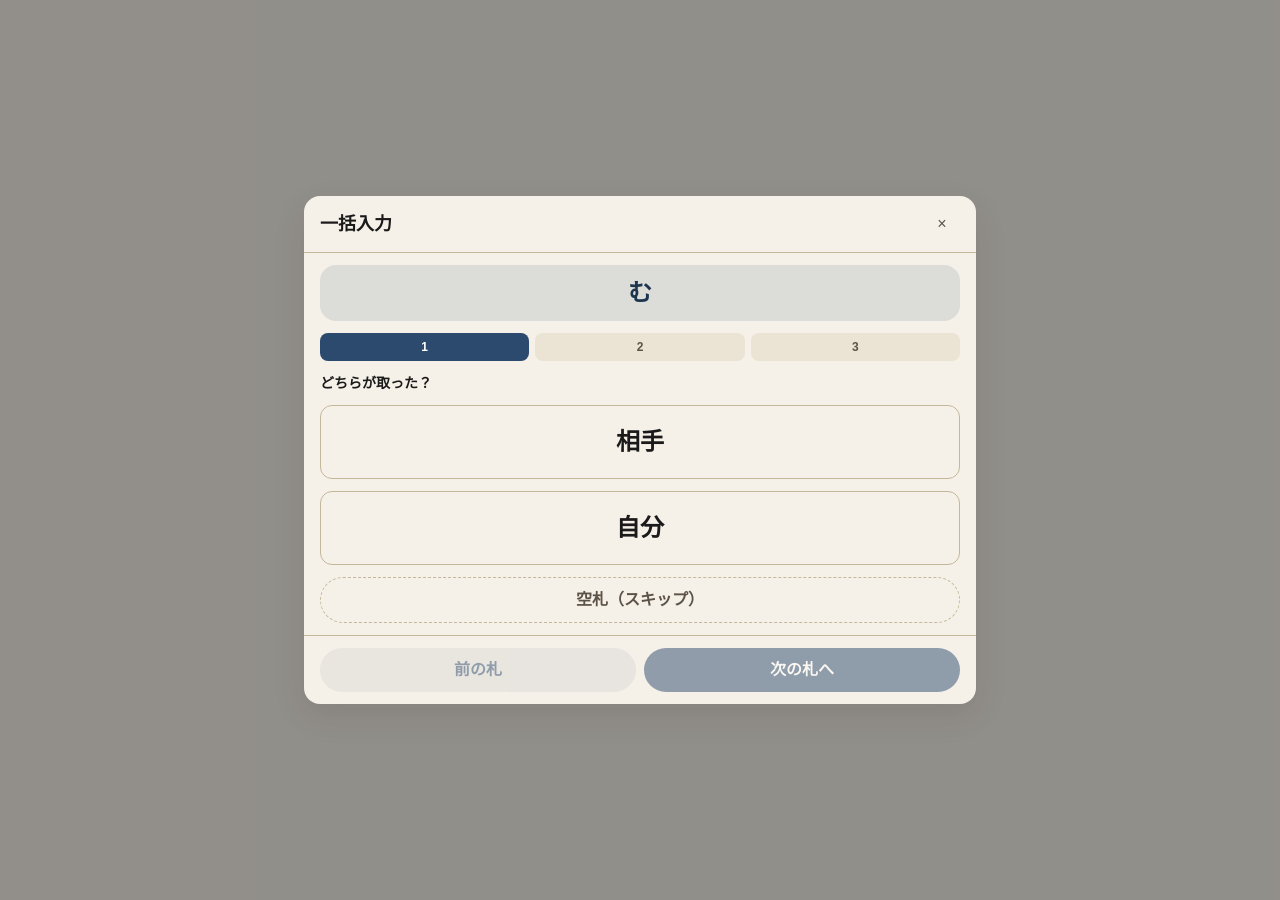
BulkEntryDialog › ステップ3完了後に次の札へ進む
Check: the text "む" is shown, box [628,277,652,309]
Click the button "自分": click(640, 528) [320,491,960,565]
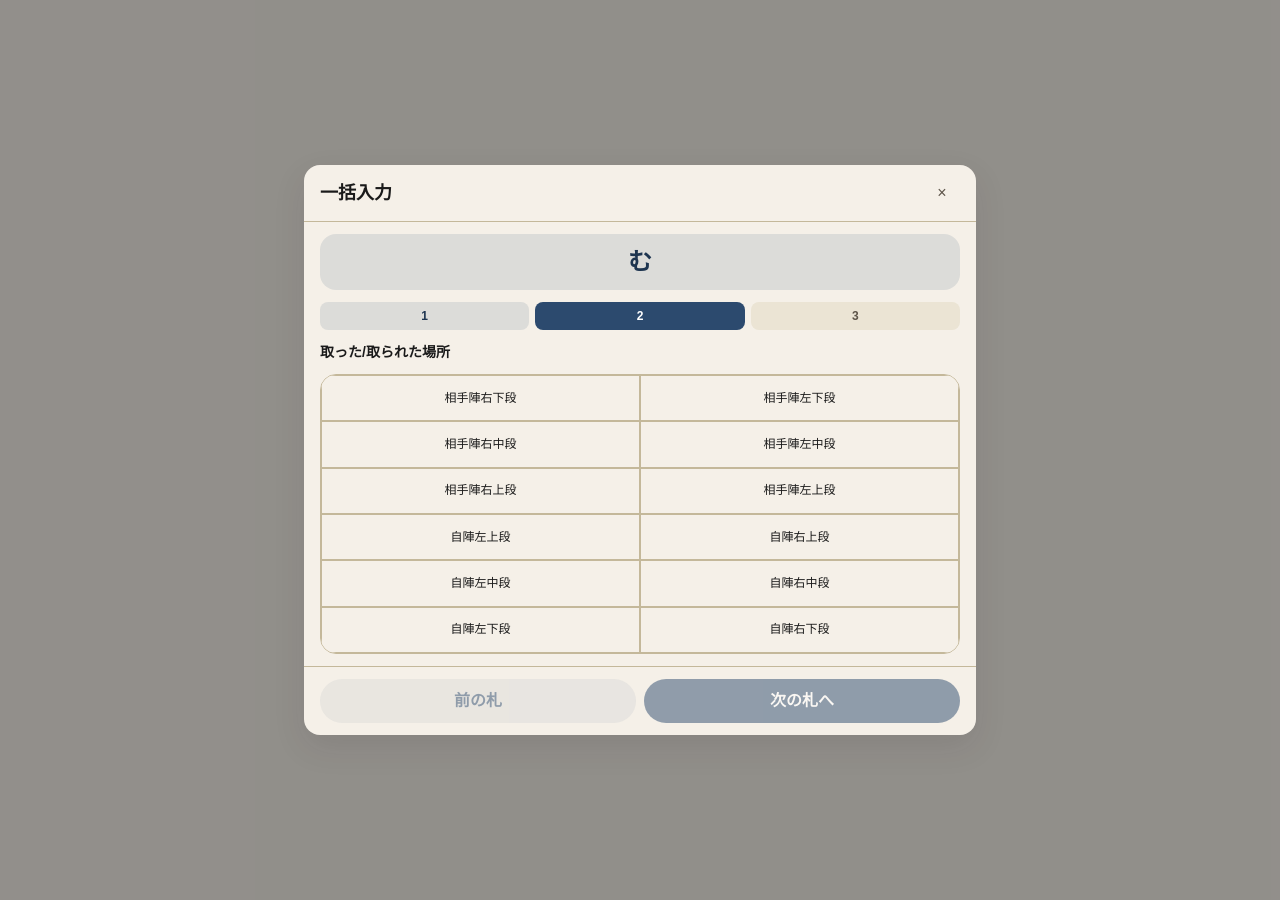
Click the button "相手陣右下段": click(480, 398) [321,375,640,421]
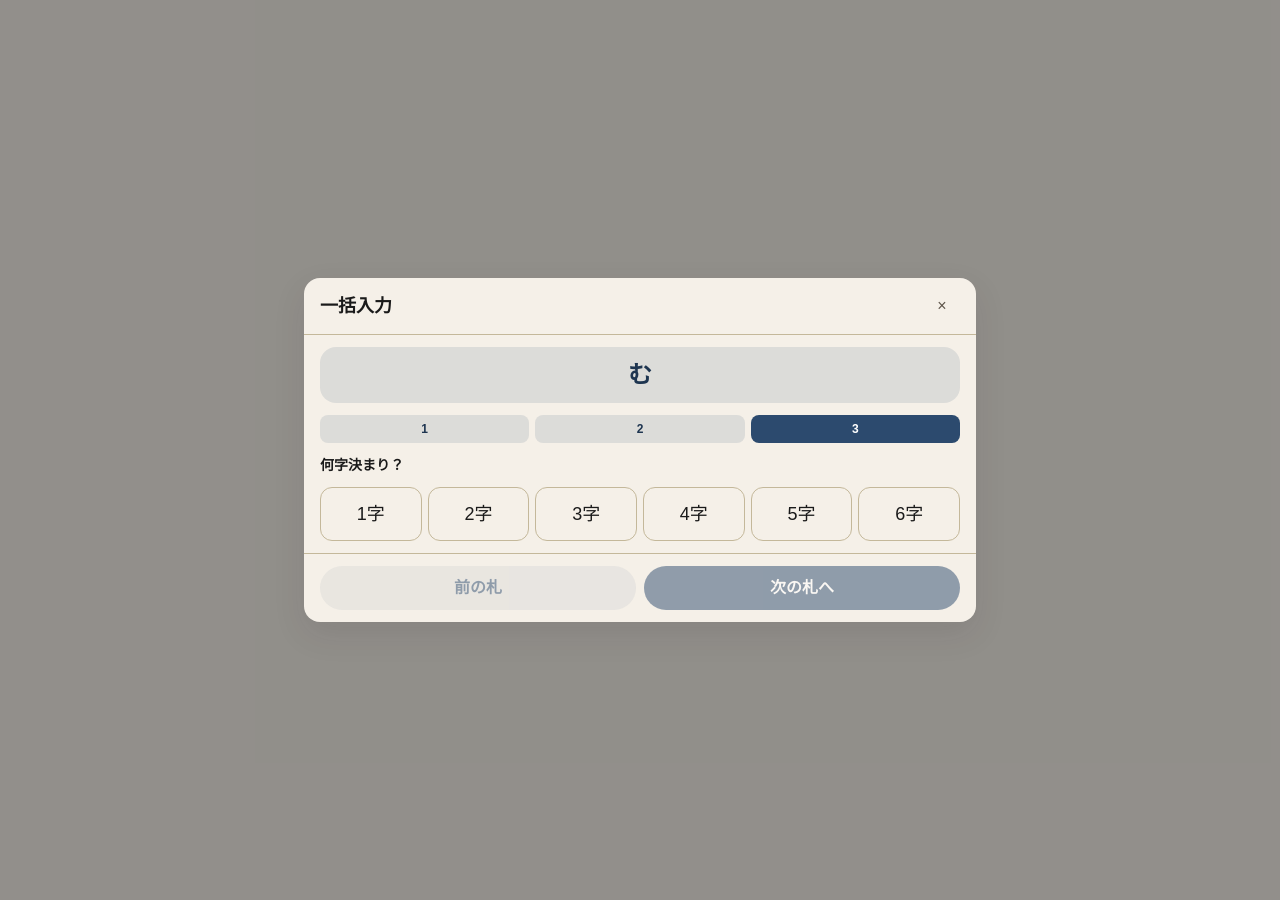
Click the button "3字": click(586, 514) [535,487,637,541]
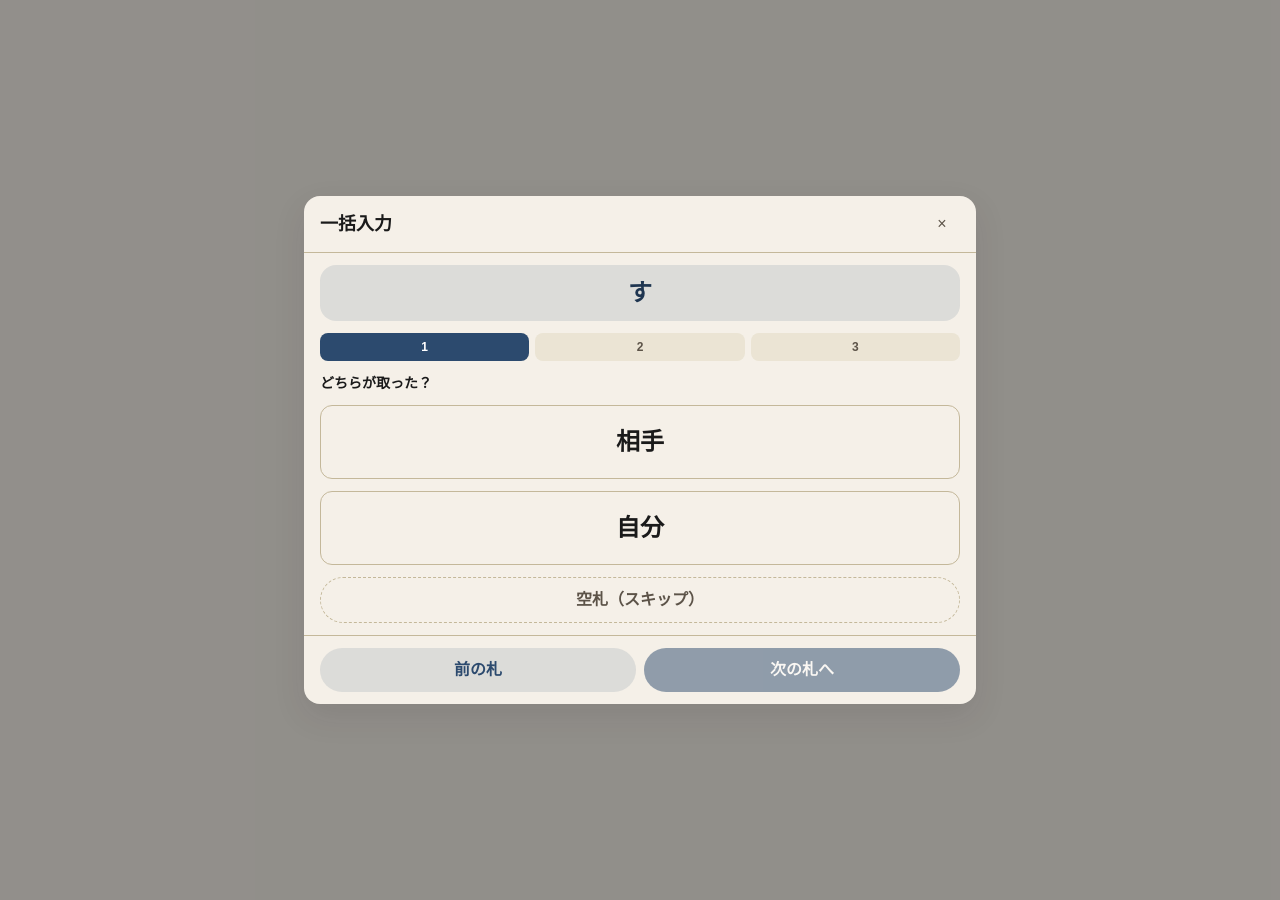
Check: the text "む" is gone
